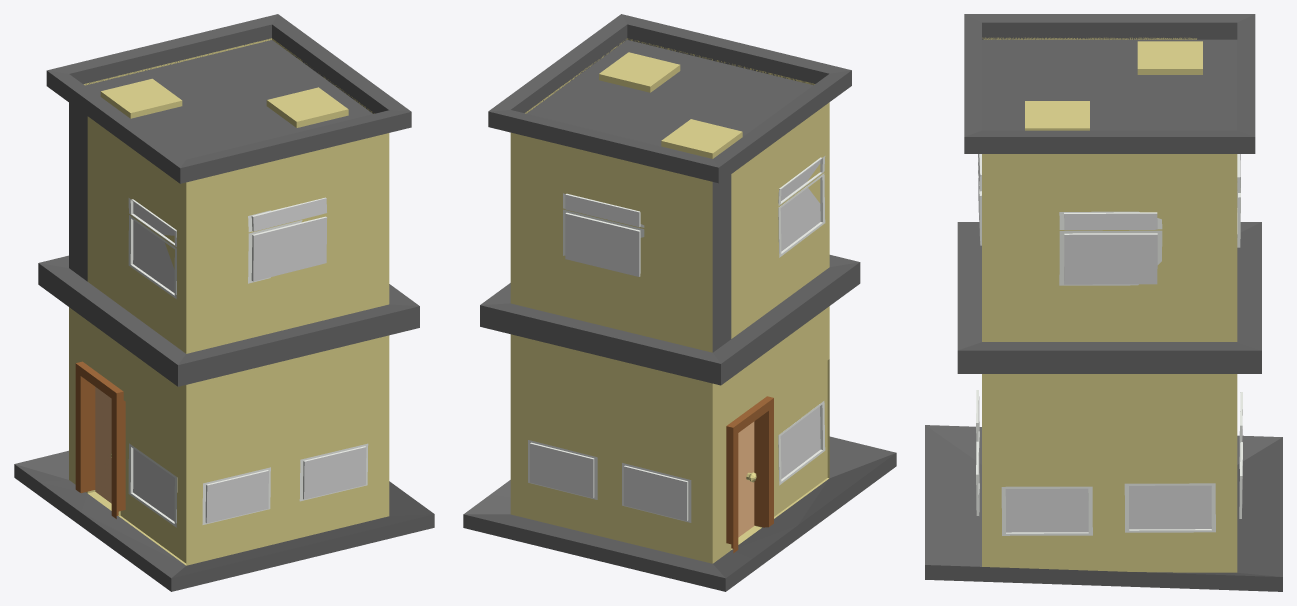
File: building_notransparency.dae
The picture shows the model from 3 angles, left to right: view 1: azimuth 30°, elevation 25°; view 2: azimuth 150°, elevation 25°; view 3: azimuth 270°, elevation 25°; orthographic projection. The views are drawn at different scales.
Visible parts, largest first — view 1: Cube; view 2: Cube; view 3: Cube.
Part boxes in pixels (box(x1,y1,x2,y2)): Cube: box(14, 14, 434, 591); Cube: box(463, 14, 896, 591); Cube: box(925, 14, 1282, 591).
Bounding box in the file's own units: 33.13 × 34.83 × 48.19.
